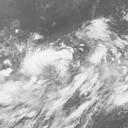cyclone: (35, 46, 90, 94)
